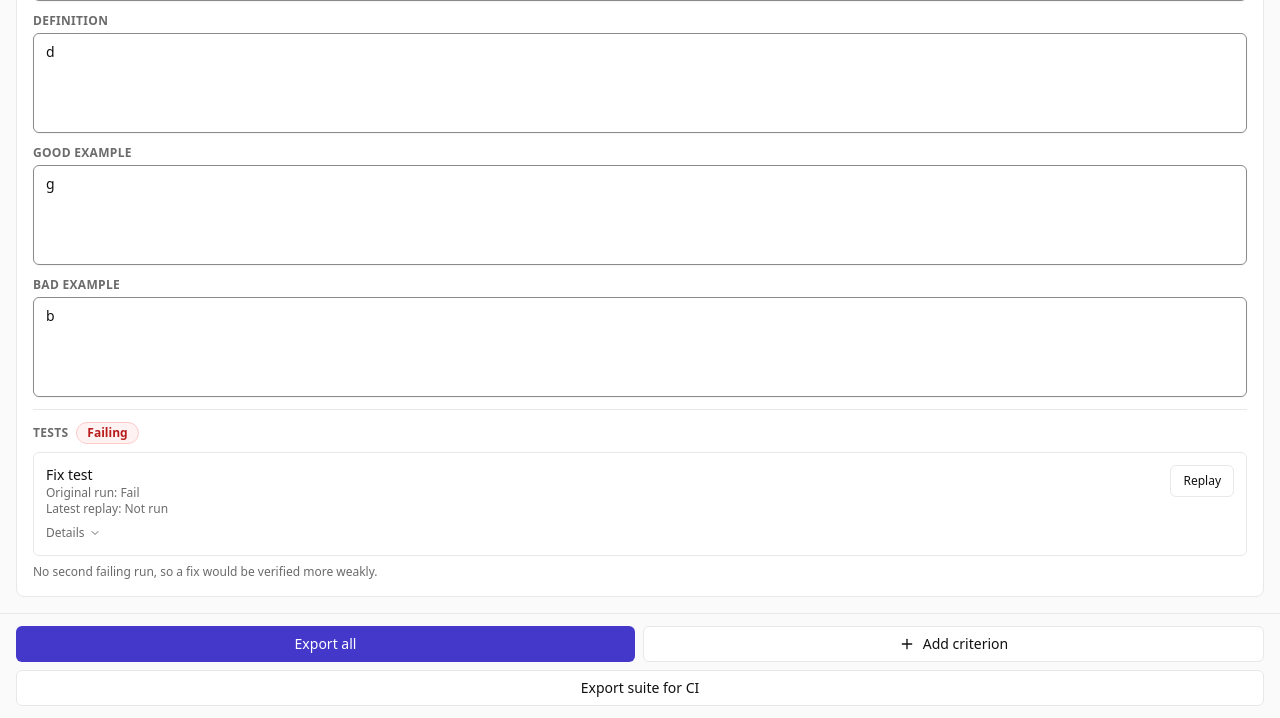
Test: EvalCriteriaPanel export for CI › is disabled while the request is in flight, so a double click makes one request
(page scrolled)
Click the button "Export suite for CI" at (640, 688), box top-left (16, 670), bottom-right (1264, 706)
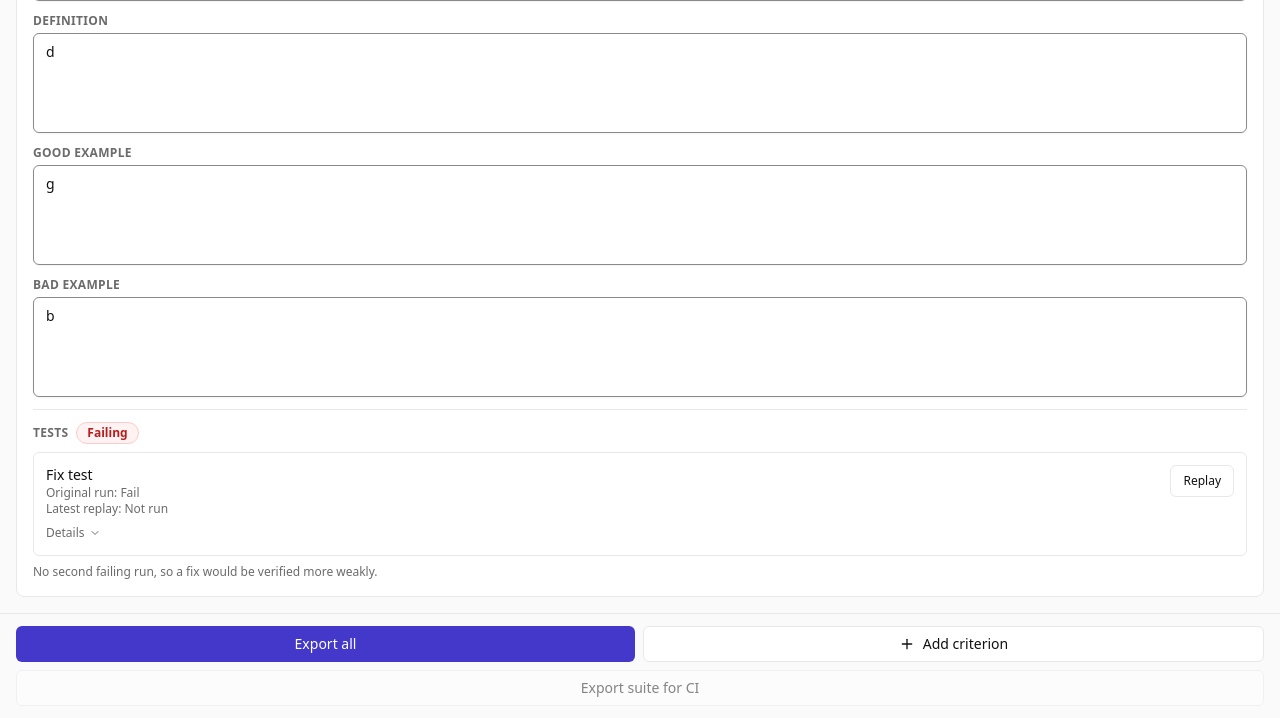
Result: the button "Export suite for CI" is disabled
Click the button "Export suite for CI" at (640, 688), box top-left (16, 670), bottom-right (1264, 706)
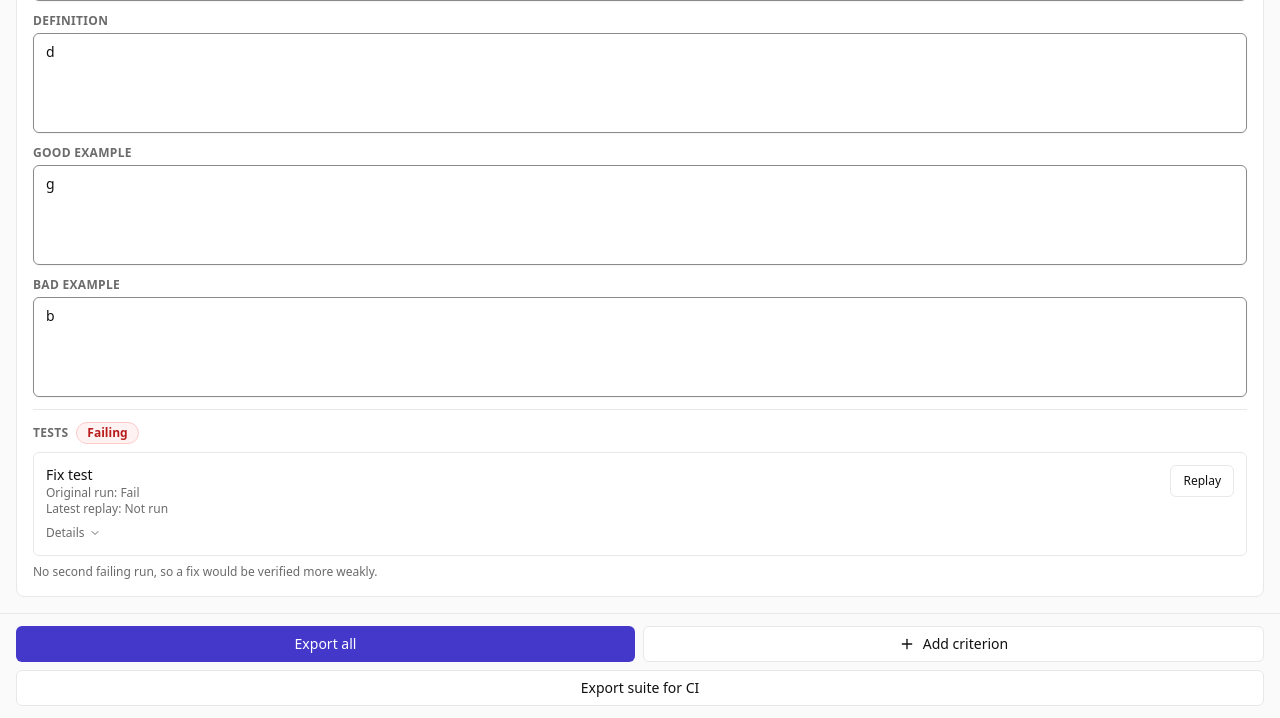
Result: the button "Export suite for CI" is enabled at top-left (16, 670), bottom-right (1264, 706)
